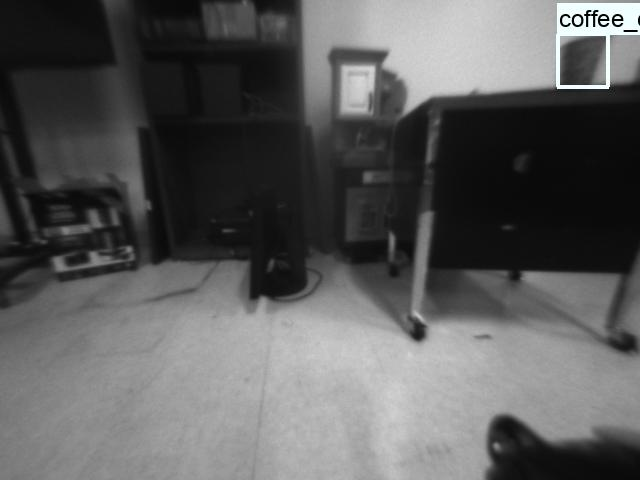coffee_cup: (558, 35, 608, 89)
